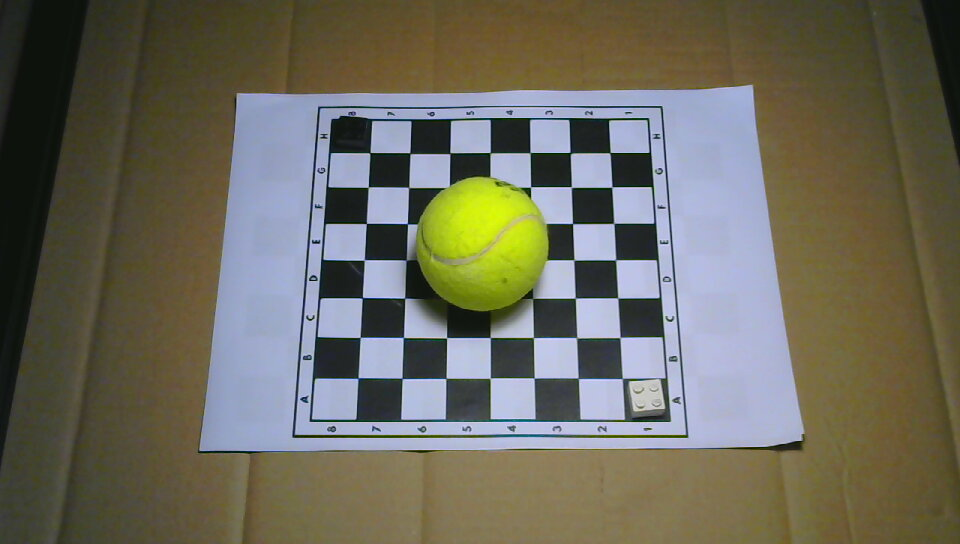bp: (335, 114, 368, 150)
wp: (626, 378, 666, 417)
